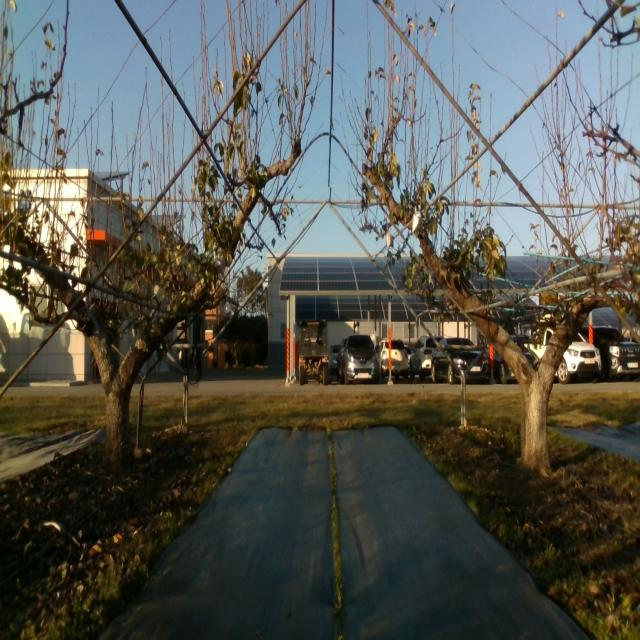pearbags: (214, 250, 226, 279), (412, 206, 424, 234)
